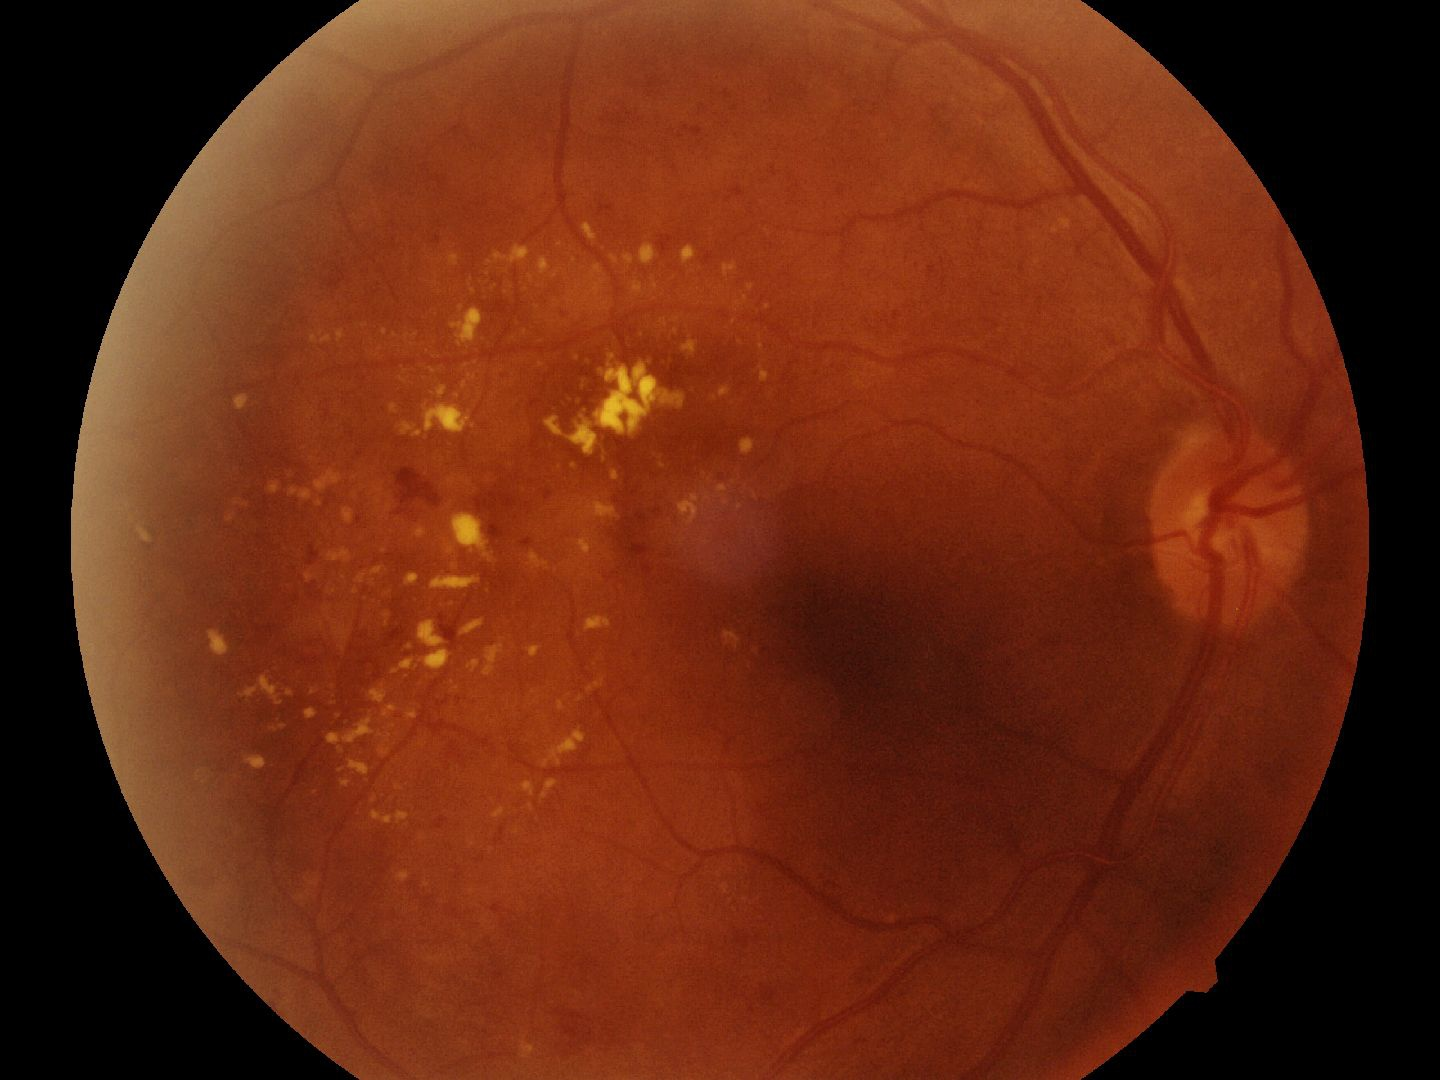Exudates: (204, 624, 366, 801), (391, 503, 493, 718), (575, 343, 684, 474), (415, 278, 485, 455)
Hemorrhages: (786, 549, 963, 817)
Optic-Disc: (1152, 407, 1303, 631)
Venules: (1041, 94, 1194, 331)
